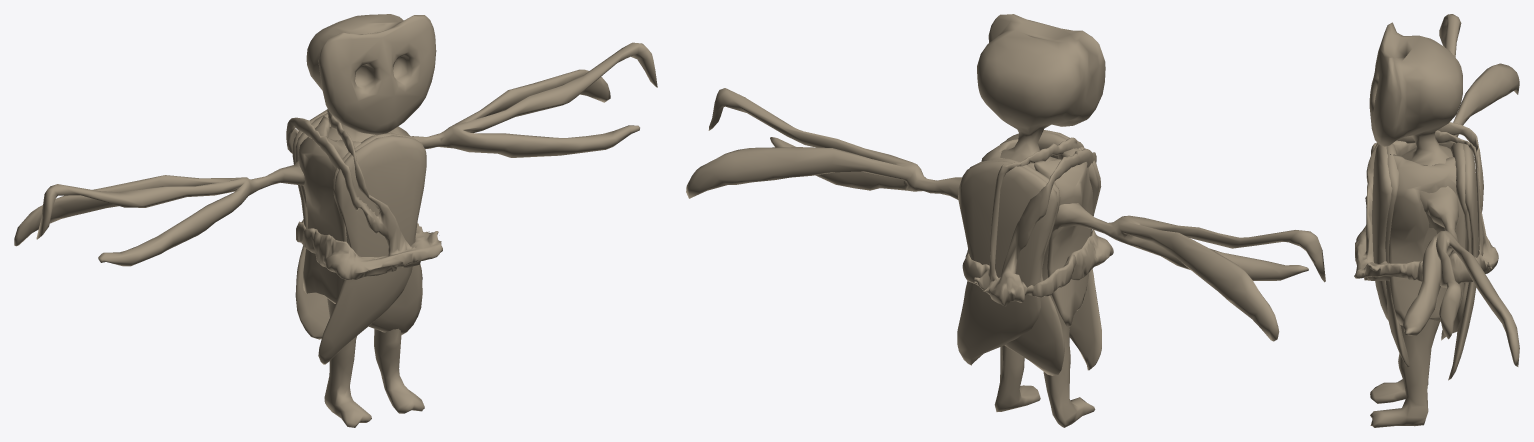
File: vineweave.glb
The picture shows the model from 3 angles, left to right: view 1: azimuth 30°, elevation 25°; view 2: azimuth 150°, elevation 25°; view 3: azimuth 270°, elevation 25°; orthographic projection. The views are drawn at different scales.
Visible parts, largest first — view 1: vineweave; view 2: vineweave; view 3: vineweave.
Boxes of the visible parts, x1,y1,x2,y2 form: vineweave: (14,14,657,427); vineweave: (686,14,1325,427); vineweave: (1354,14,1519,427).
Size of the model in its own units: 1.9 by 1.14 by 0.462.
